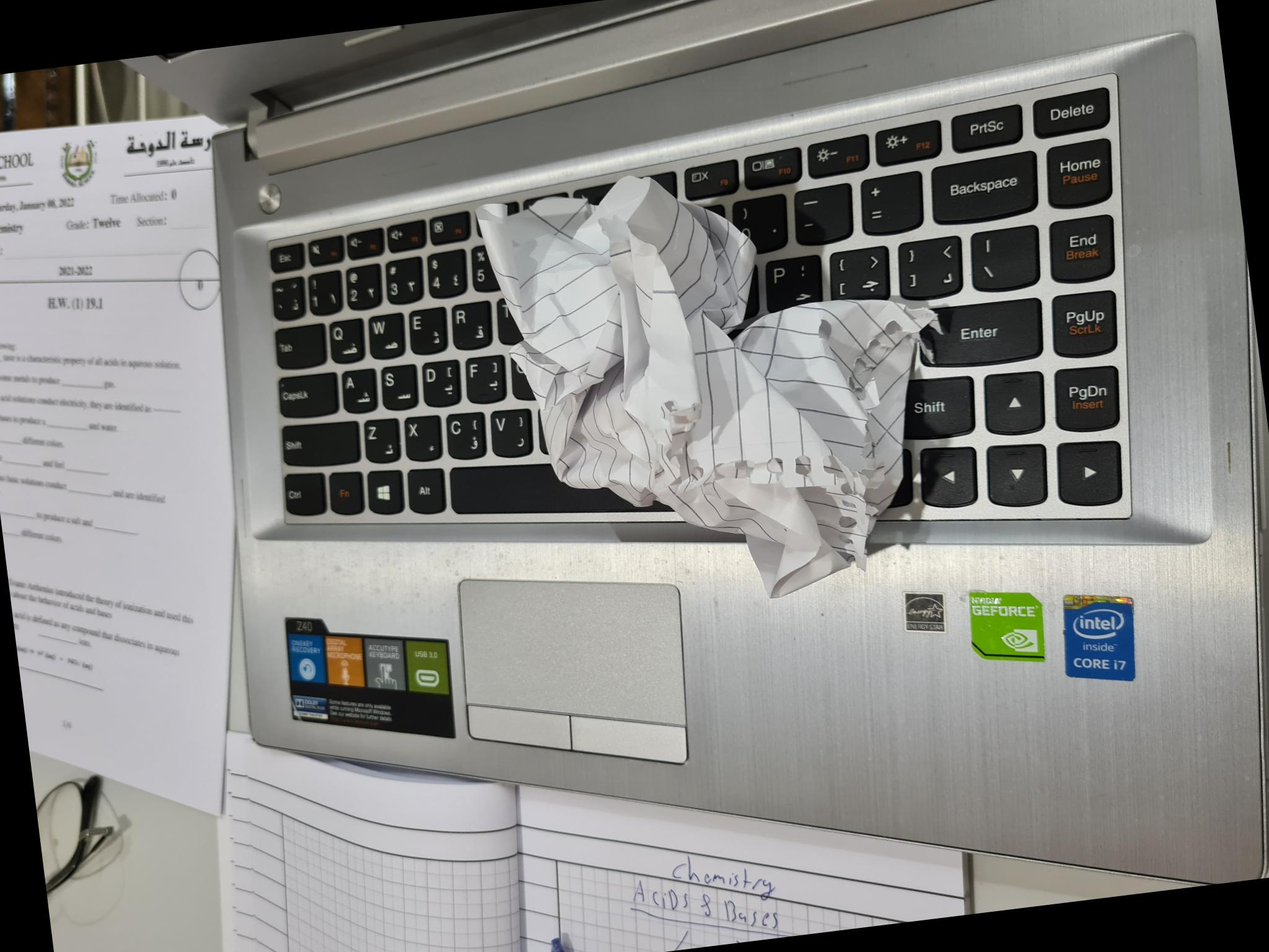Kertas: (375, 495, 795, 950)
